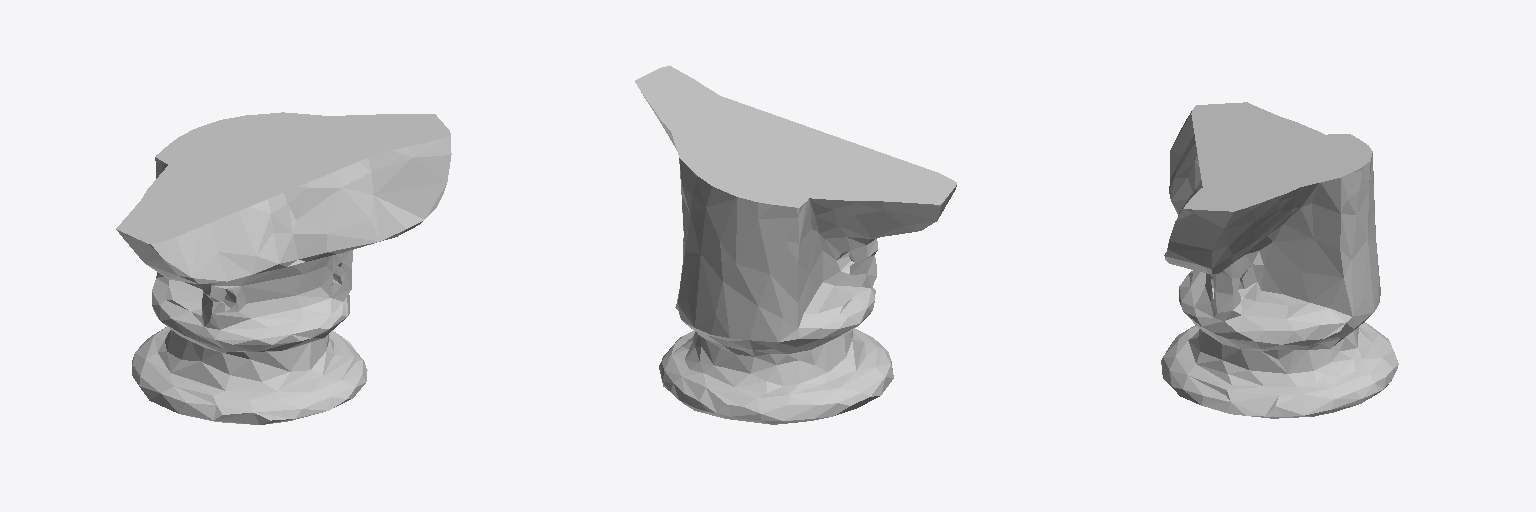
Rendered from bust4.obj.
The picture shows the model from 3 angles: view 1: azimuth 30°, elevation 25°; view 2: azimuth 150°, elevation 25°; view 3: azimuth 270°, elevation 25°; orthographic projection.
Parts seen in each view (by area): view 1: hercules; view 2: hercules; view 3: hercules.
Part boxes in pixels (bbox=[...]): hercules: bbox=[116, 112, 451, 424]; hercules: bbox=[635, 65, 956, 424]; hercules: bbox=[1161, 102, 1398, 418].
Size of the model in its own units: 15.47 by 11.4 by 10.19.